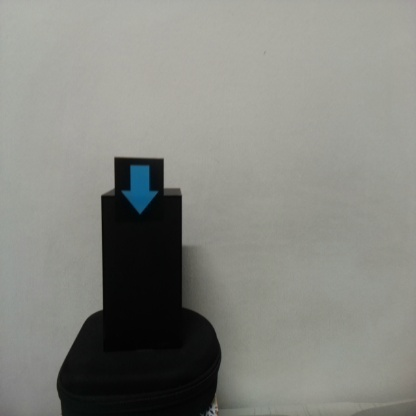id_2: (114, 158, 164, 224)
